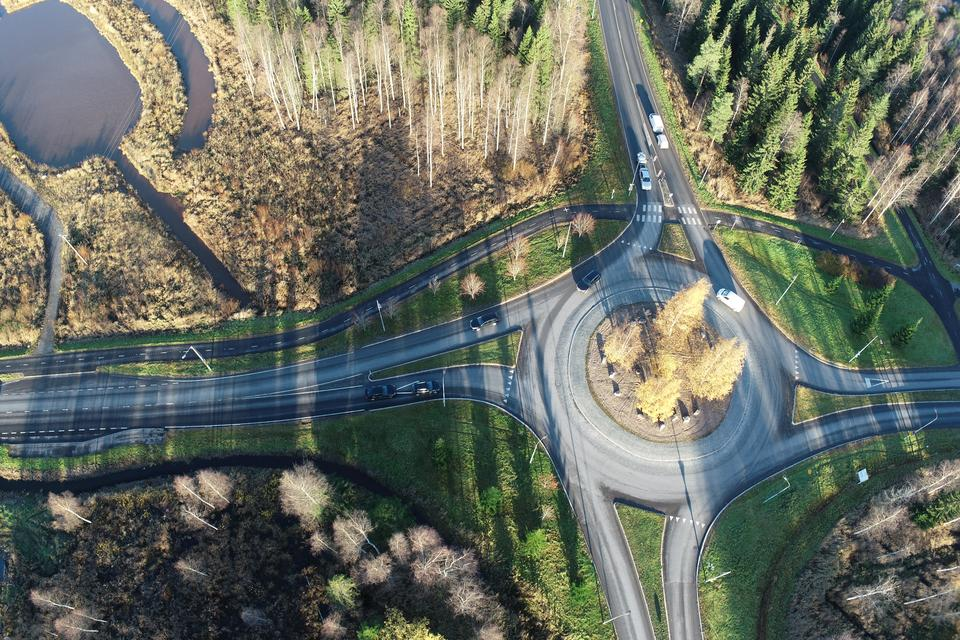intersection: (14, 318, 71, 454), (619, 191, 730, 235), (948, 350, 960, 452)
roundabout: (480, 239, 862, 571)
